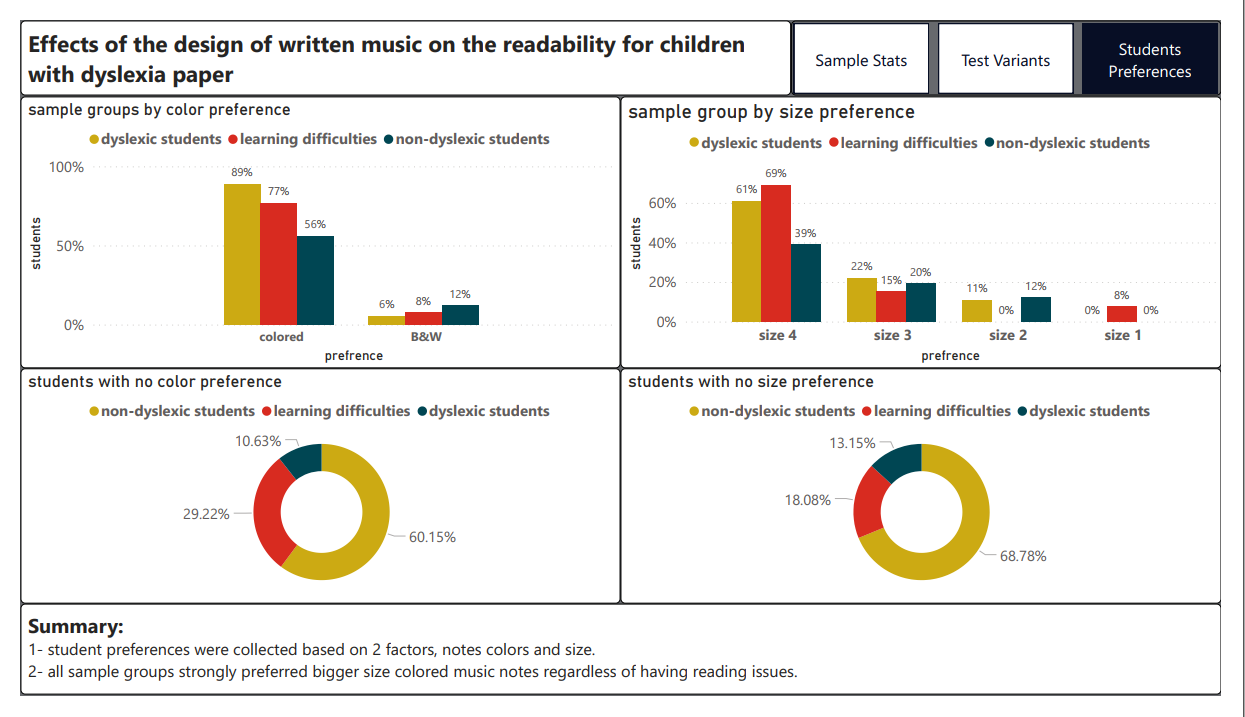

Layout of this report page (visuals, bound fields, positions):
{"tool":"powerbi","page":{"name":"Students Preferences","canvas":[1280,720],"ordinal":2},"visuals":[{"type":"textbox","box":[0,0,822.3,79.9],"z":0},{"type":"pageNavigator","box":[822.3,0,458.3,79.9],"z":1000},{"type":"textbox","box":[0,621.9,1280.5,96.9],"z":2000},{"type":"clusteredColumnChart","title":"sample groups by color preference","fields":{"Y":["Sum(student prefrences.students %)"],"Series":["student prefrences.group"],"Category":["student prefrences.prefrence"]},"box":[0,81.2,640.3,289.4],"z":3000},{"type":"clusteredColumnChart","title":"sample group by size preference","fields":{"Y":["Sum(student prefrences.students %)"],"Series":["student prefrences.group"],"Category":["student prefrences.prefrence"]},"box":[640.3,81.2,640.3,289.4],"z":4000},{"type":"donutChart","title":"students with no size preference ","fields":{"Category":["student prefrences.group"],"Y":["Sum(student prefrences.students %)"]},"box":[640.3,370.5,640.3,251.4],"z":5000},{"type":"donutChart","title":"students with no color preference ","fields":{"Category":["student prefrences.group"],"Y":["Sum(student prefrences.students %)"]},"box":[0,370.5,640.3,251.4],"z":6000}]}

Visuals, with their boxes in screenshot pixels (x1, y1, x2, y2), scaled from the page's 1280x720 canvas onto the 1245x717 screenshot:
textbox: {"x1": 0, "y1": 0, "x2": 800, "y2": 80}
pageNavigator: {"x1": 800, "y1": 0, "x2": 1244, "y2": 80}
textbox: {"x1": 0, "y1": 619, "x2": 1244, "y2": 716}
"sample groups by color preference" clusteredColumnChart: {"x1": 0, "y1": 81, "x2": 623, "y2": 369}
"sample group by size preference" clusteredColumnChart: {"x1": 623, "y1": 81, "x2": 1244, "y2": 369}
"students with no size preference " donutChart: {"x1": 623, "y1": 369, "x2": 1244, "y2": 619}
"students with no color preference " donutChart: {"x1": 0, "y1": 369, "x2": 623, "y2": 619}
